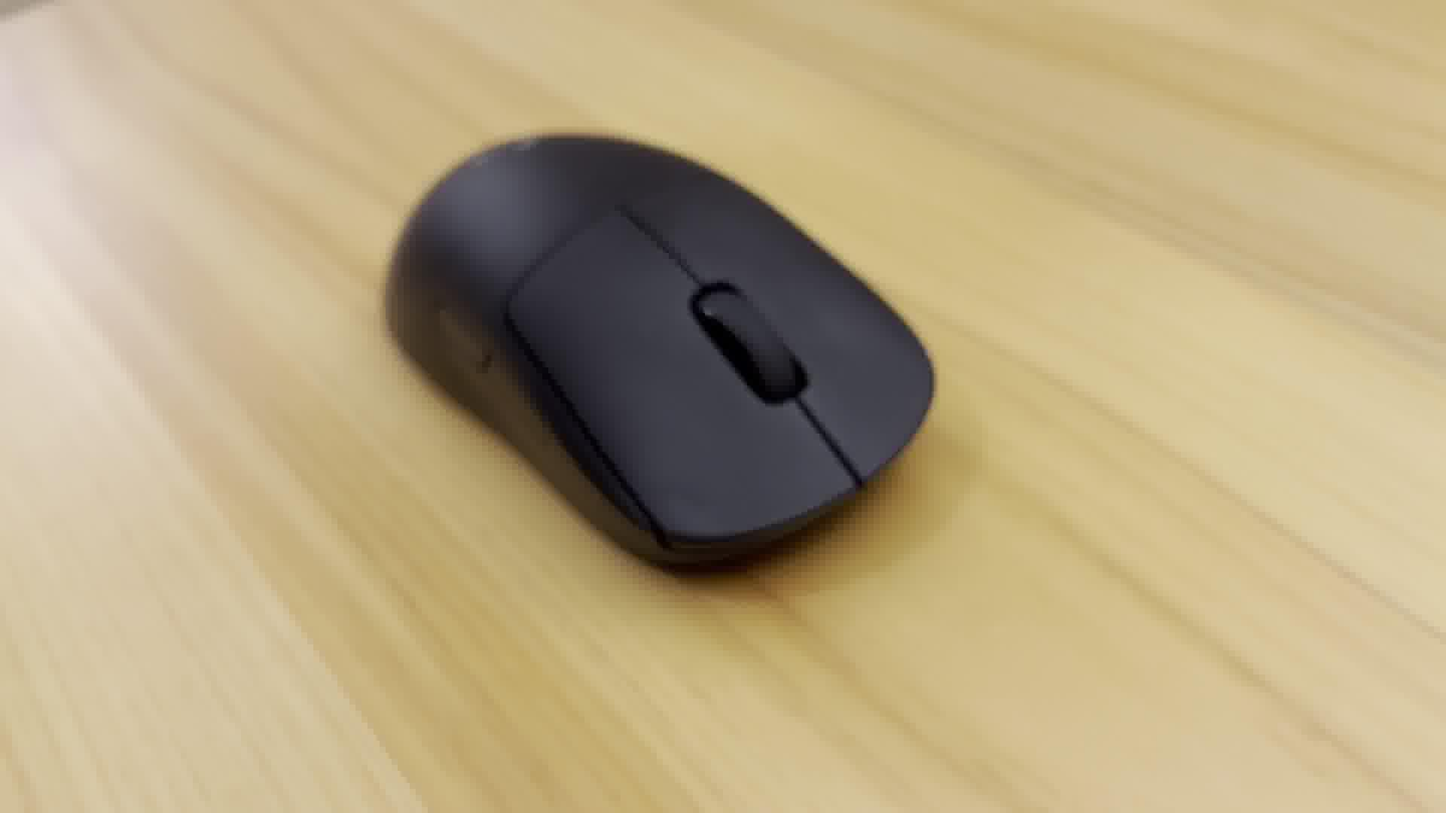mouse: (379, 123, 946, 590)
